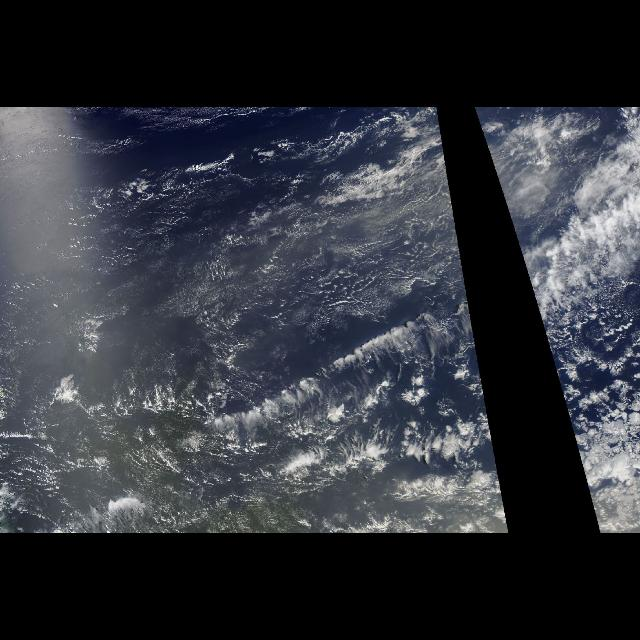Fish: (183, 288, 489, 486)
Sugar: (9, 124, 418, 326), (80, 429, 276, 531)
